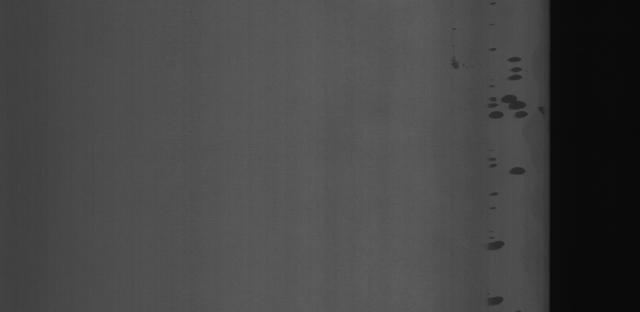oil_spot: (485, 85, 536, 128), (481, 148, 506, 215), (447, 25, 469, 78), (501, 44, 531, 82), (484, 4, 502, 60), (484, 229, 508, 262), (484, 287, 504, 312), (511, 166, 530, 180)
